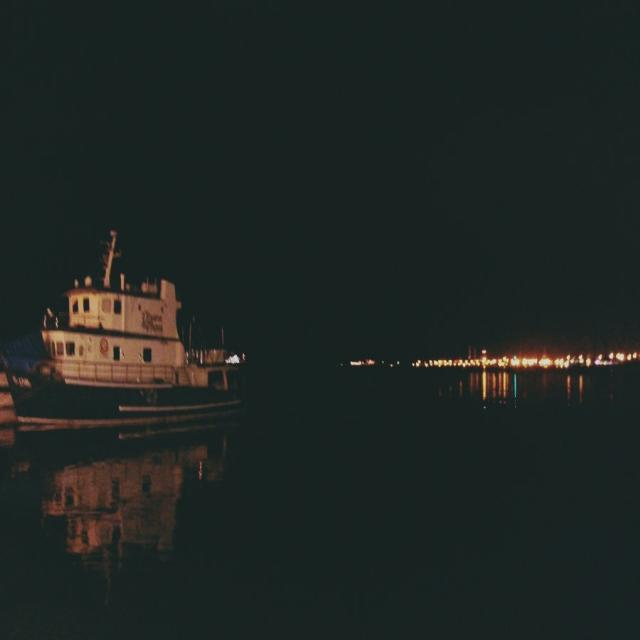Boat: (16, 243, 249, 437)
